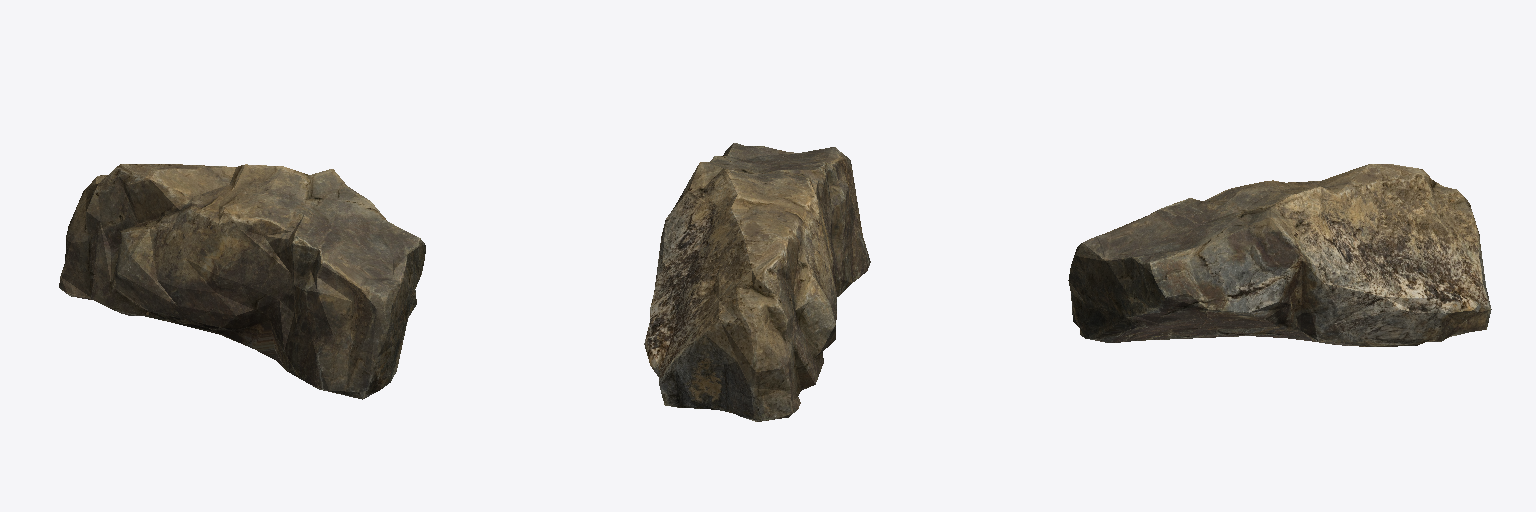
3 views of the same model, side by side, from view 1: azimuth 30°, elevation 25°; view 2: azimuth 150°, elevation 25°; view 3: azimuth 270°, elevation 25° (orthographic).
Parts seen in each view (by area): view 1: Stone_01_BaseTri; view 2: Stone_01_BaseTri; view 3: Stone_01_BaseTri.
Boxes of the visible parts, x1=… form: Stone_01_BaseTri: x1=59, y1=164, x2=425, y2=399; Stone_01_BaseTri: x1=644, y1=143, x2=870, y2=421; Stone_01_BaseTri: x1=1068, y1=164, x2=1491, y2=346.
Bounding box in the file's own units: 30.25 × 19.95 × 49.6.
Materials: 1 (1 with a texture image).